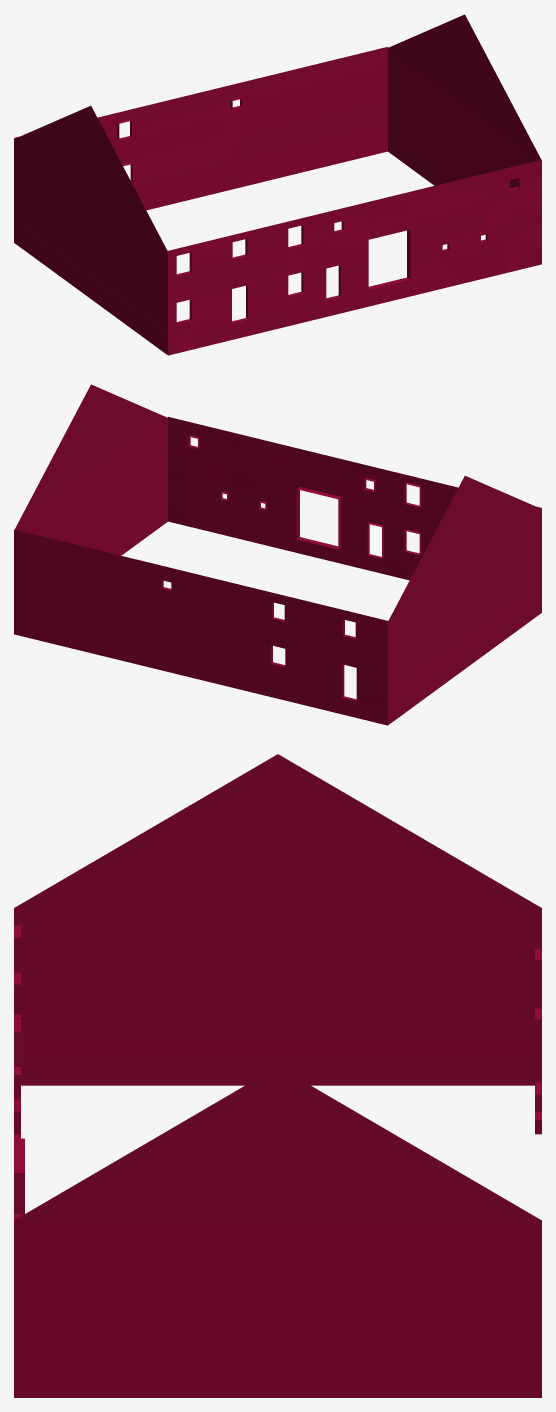
File: SM_Bld_053_Masonry.glb
3 views of the same model, one above another, from view 1: azimuth 30°, elevation 25°; view 2: azimuth 150°, elevation 25°; view 3: azimuth 270°, elevation 25° (orthographic). The views are drawn at different scales.
Visible parts, largest first — view 1: SM_Bld_053_Masonry; view 2: SM_Bld_053_Masonry; view 3: SM_Bld_053_Masonry.
Part boxes in pixels (x1,y1,x2,y2): SM_Bld_053_Masonry: (14, 14, 541, 355); SM_Bld_053_Masonry: (14, 384, 541, 725); SM_Bld_053_Masonry: (14, 754, 541, 1397).
Bounding box in the file's own units: 23.41 × 11.58 × 16.72.
